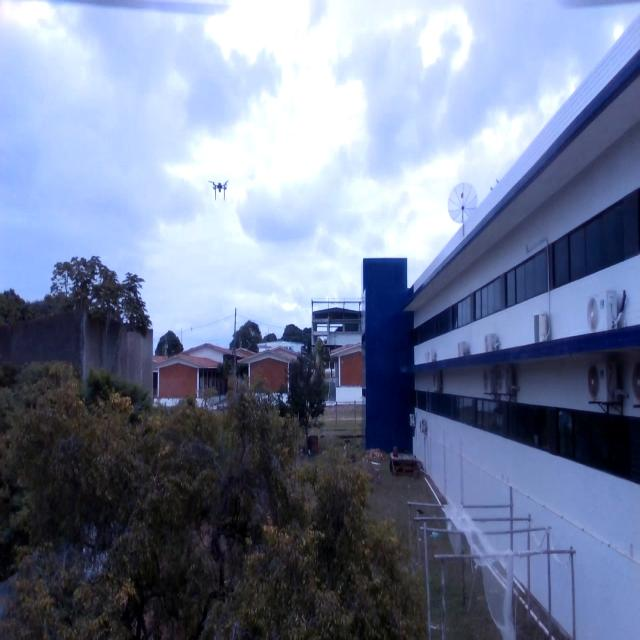-uav-: (203, 169, 235, 210)
